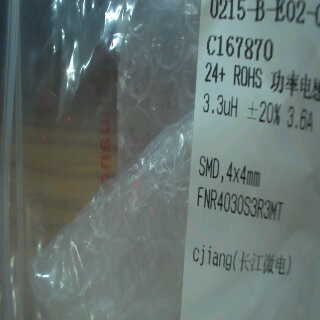3.3uH: (202, 84, 243, 116)
